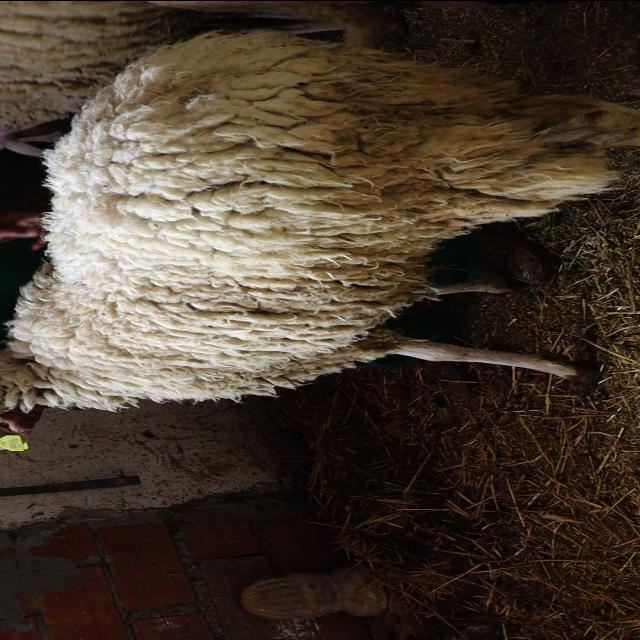Score_4: (0, 30, 639, 411)
